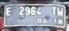clone-license-plate: (3, 2, 66, 28)
